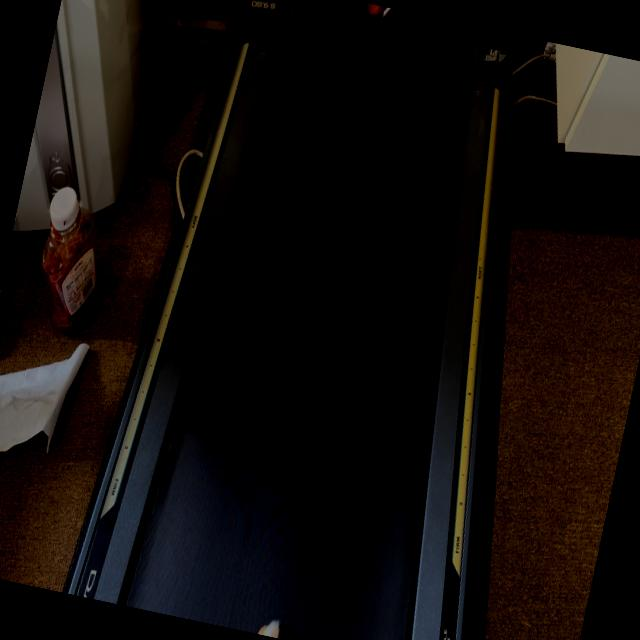Trash: (254, 612, 288, 640), (358, 2, 394, 26)
